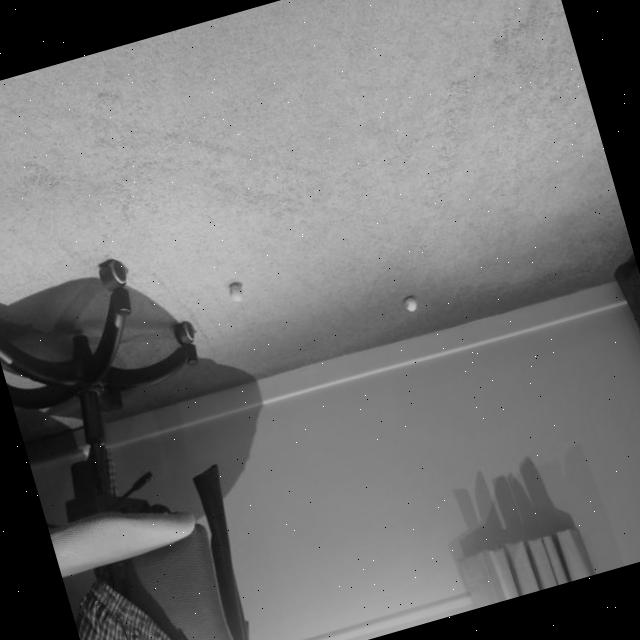ping-pong-ball: (399, 291, 418, 314), (224, 280, 243, 302)
